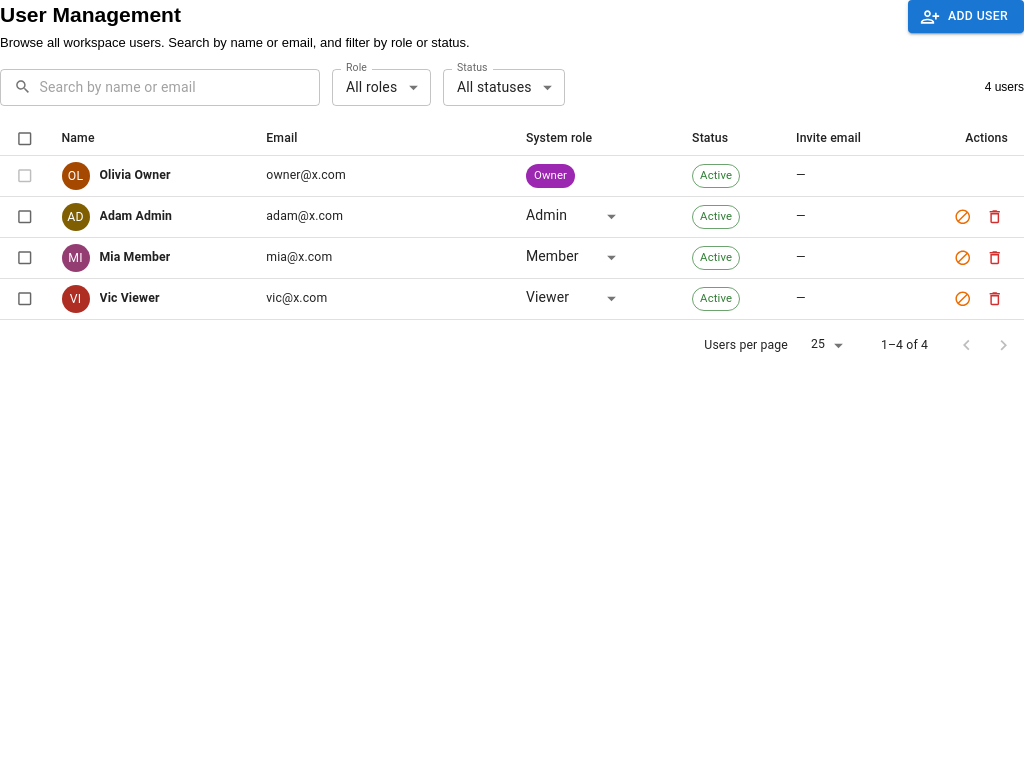
UserManagementPage — bulk delete › deletes the selected users after confirmation
The image size is (1024, 768).
Check: the text "Mia Member" is shown, box x1=100 y1=249 x2=170 y2=266
Click the checkbox named "Select Mia Member". click: {"x": 25, "y": 258}
box: x1=16 y1=249 x2=34 y2=266
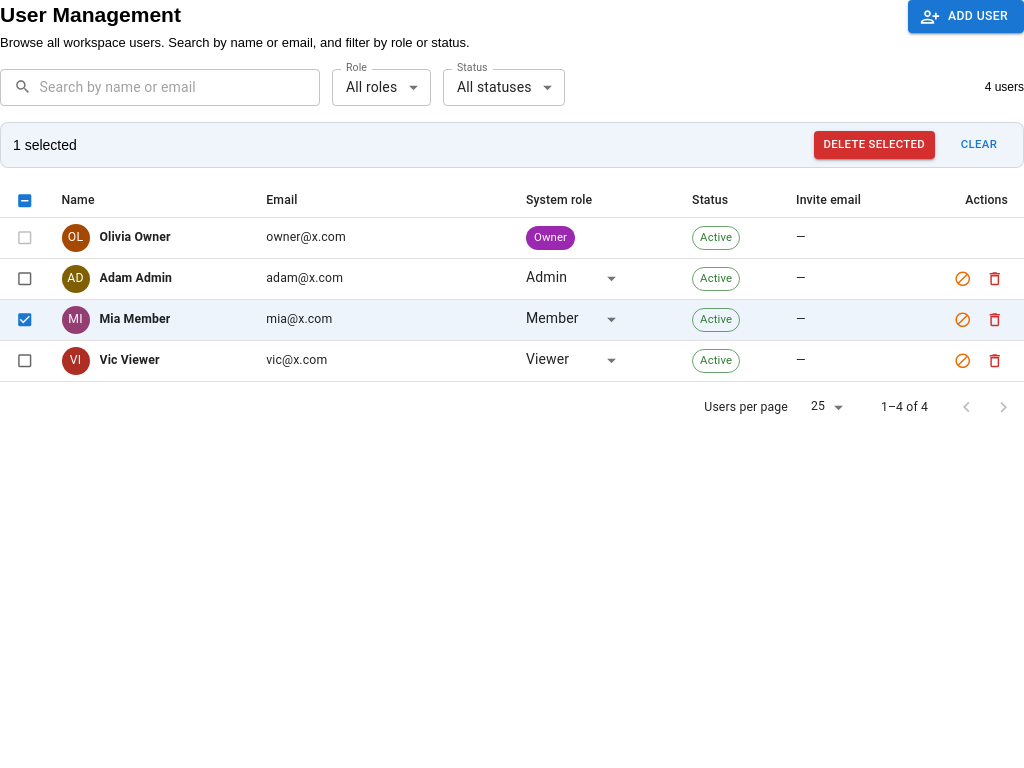
Click the checkbox named "Select Vic Viewer". click: {"x": 25, "y": 361}
box: x1=16 y1=352 x2=34 y2=369
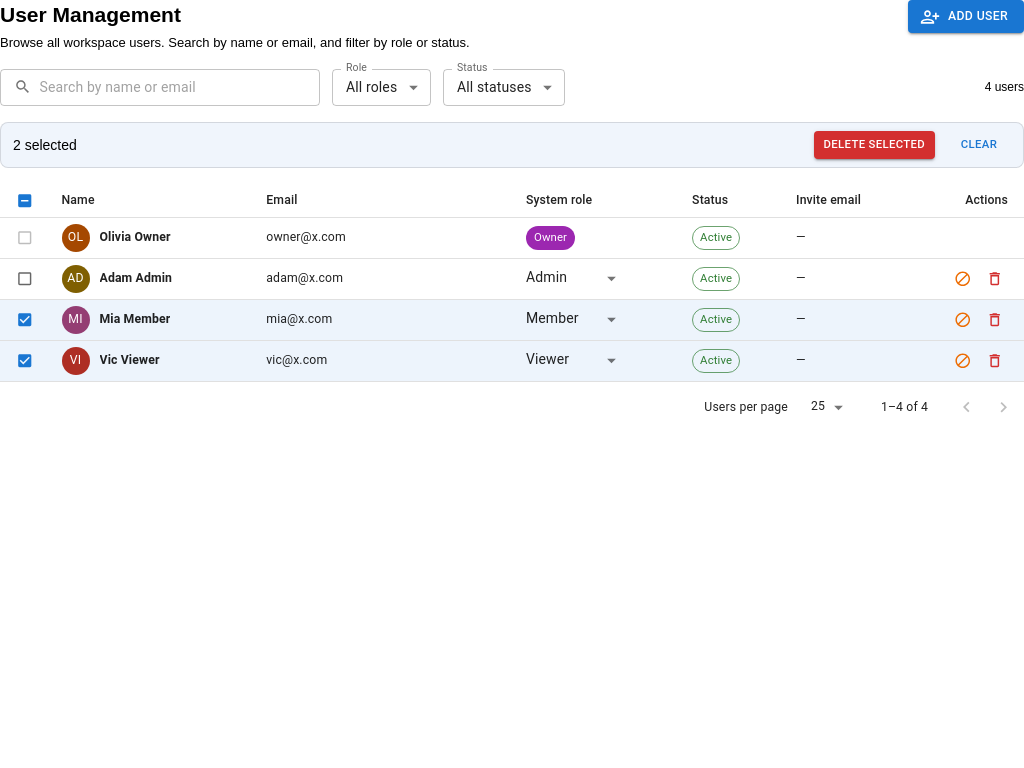
Click the button "Delete selected". click: {"x": 874, "y": 145}
box: x1=814 y1=131 x2=935 y2=159
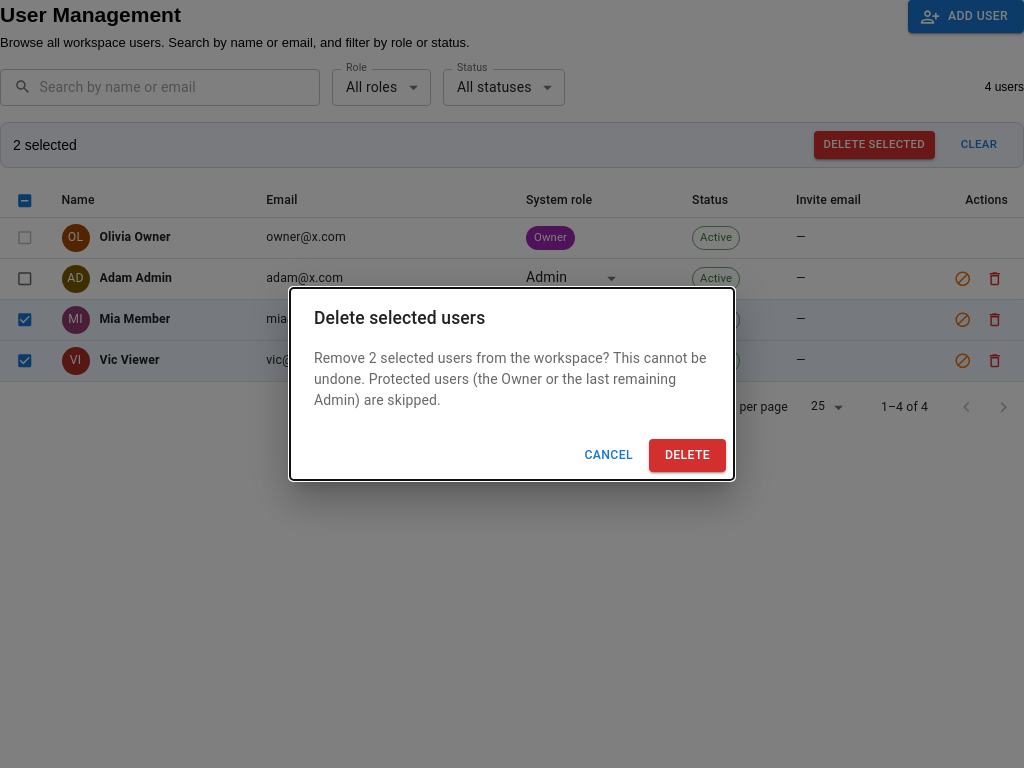
Click the button "Delete". click: {"x": 687, "y": 456}
box: x1=649 y1=439 x2=726 y2=472
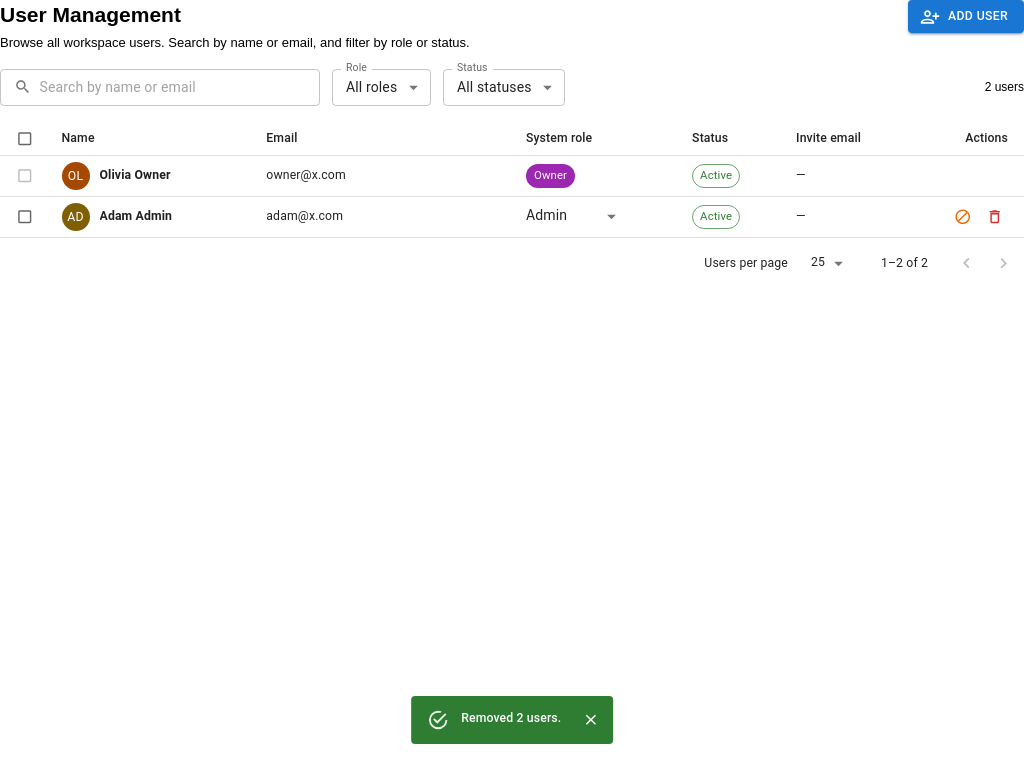
Check: the text "Adam Admin" is shown, box x1=100 y1=208 x2=172 y2=225
Check: the text "Mia Member" is gone
Check: the text "Vic Viewer" is gone
